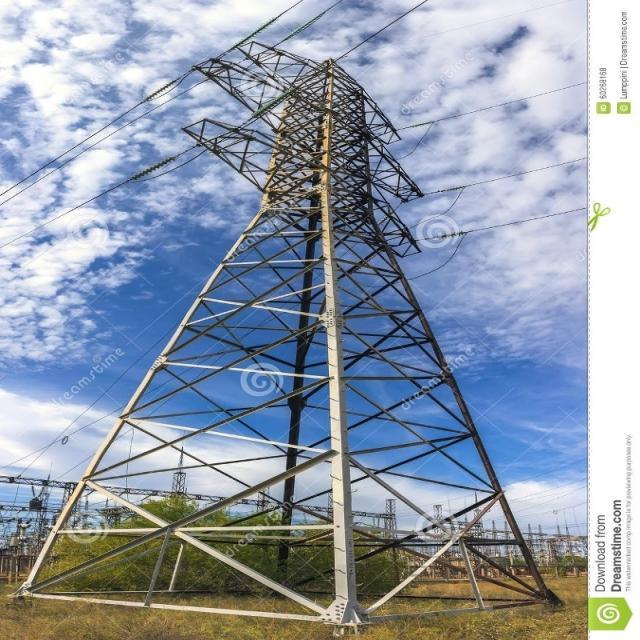non-critical vegetation: (19, 39, 547, 573)
